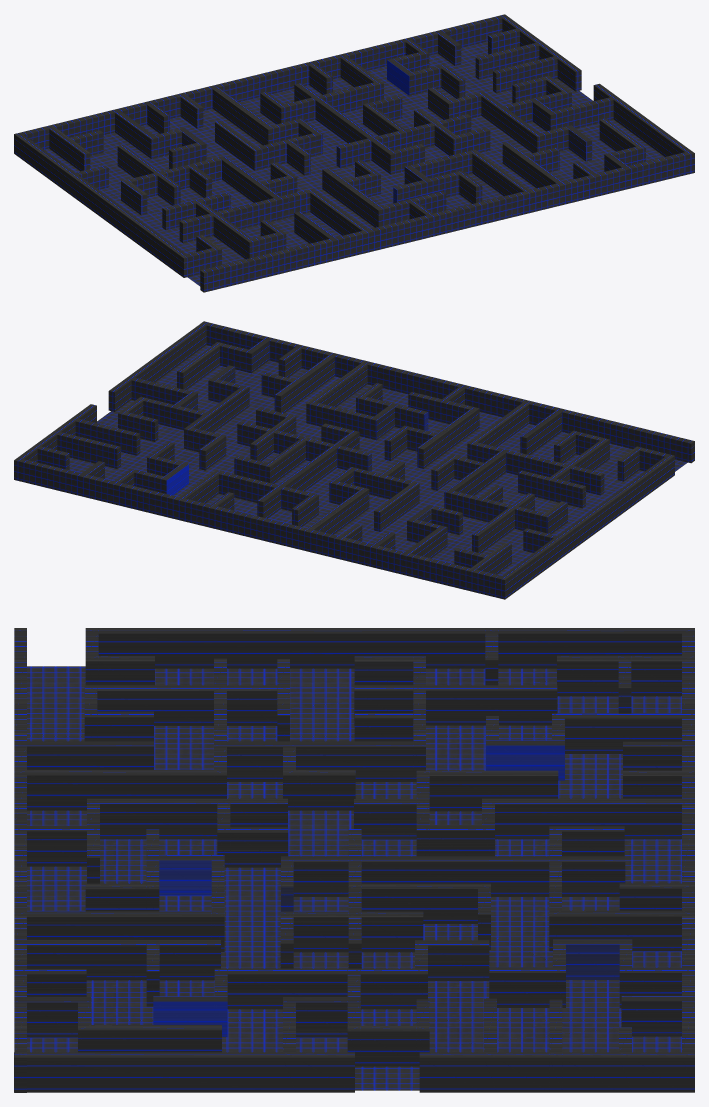
File: laberinto_tecno.obj
3 views of the same model, one above another, from view 1: azimuth 30°, elevation 25°; view 2: azimuth 150°, elevation 25°; view 3: azimuth 270°, elevation 25° (orthographic). The views are drawn at different scales.
Parts seen in each view (by area): view 1: Cube_Cube.001, Plane; view 2: Cube_Cube.001, Plane; view 3: Cube_Cube.001, Plane.
Part boxes in pixels (box(x1,y1,x2,y2)): Cube_Cube.001: box(14, 14, 694, 292); Plane: box(44, 41, 664, 286); Cube_Cube.001: box(14, 321, 694, 599); Plane: box(69, 345, 687, 575); Cube_Cube.001: box(14, 628, 694, 1092); Plane: box(27, 666, 681, 1090).
Size of the model in its own units: 78.67 by 3 by 52.7.
